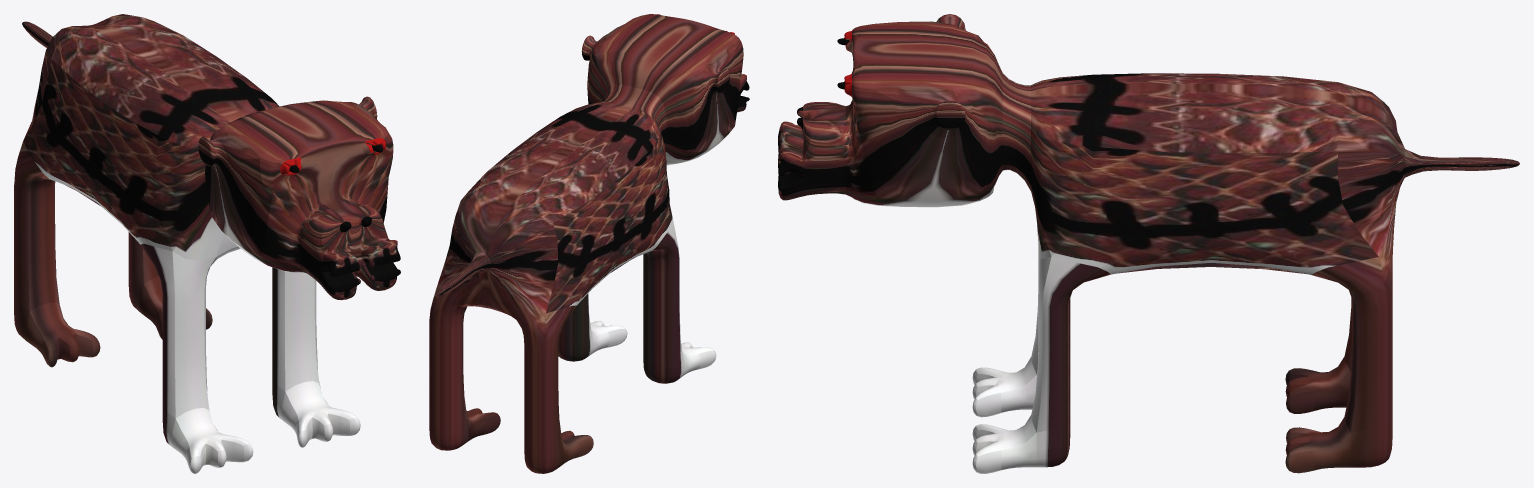
File: troubled_canine.fbx
3 renders of one model, left to right at view 1: azimuth 30°, elevation 25°; view 2: azimuth 150°, elevation 25°; view 3: azimuth 270°, elevation 25°, orthographic. The views are drawn at different scales.
Visible parts, largest first — view 1: pCube2; view 2: pCube2; view 3: pCube2.
Part boxes in pixels (x1,y1,x2,y2): pCube2: (14, 14, 400, 473); pCube2: (429, 14, 749, 473); pCube2: (778, 14, 1519, 473).
Size of the model in its own units: 34.05 by 68.19 by 119.
Materials: 3 (3 with a texture image).
